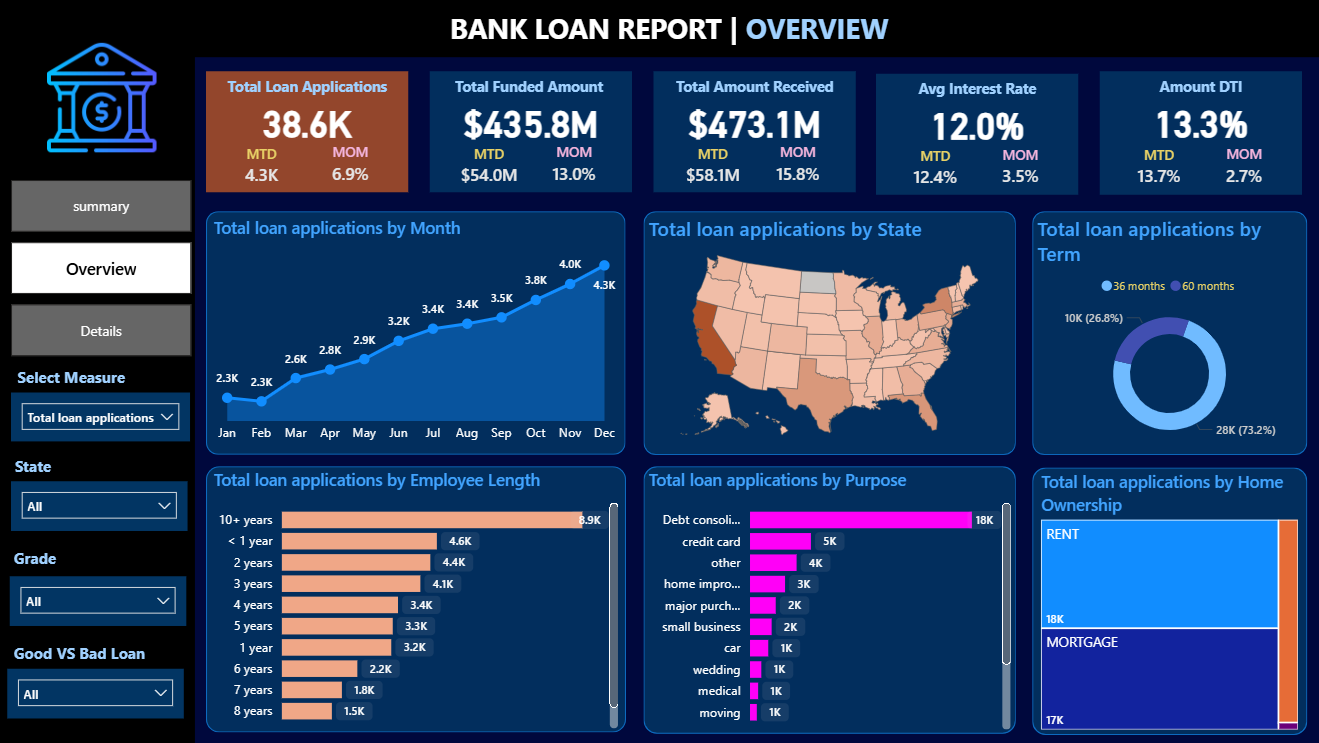

The page's visual inventory and layout, read from the dashboard file:
{"tool":"powerbi","page":{"name":"Overview","canvas":[1280,720],"ordinal":1},"visuals":[{"type":"textbox","box":[0,54.9,192,665],"z":0},{"type":"textbox","box":[0,0,1280,55.5],"z":1000},{"type":"textbox","box":[433.1,3.6,441.6,47.1],"z":2000},{"type":"group","id":"g1","title":"Group 1","box":[202.7,68.8,195.4,117],"z":3000},{"type":"textbox","box":[202.7,68.8,195.4,117],"z":3000,"group":"g1"},{"type":"textbox","box":[418.3,68.8,195.4,117],"z":3000,"group":"g2"},{"type":"textbox","box":[634,68.8,195.4,117],"z":3000,"group":"g4"},{"type":"textbox","box":[1065.3,68.8,195.4,119.4],"z":3000,"group":"g5"},{"type":"textbox","box":[849.6,71.2,195.4,117],"z":3000,"group":"g3"},{"type":"group","id":"g2","title":"Group 1","box":[418.3,68.8,195.4,117],"z":4000},{"type":"card","fields":{"Values":["bank_loan_data.Total loan applications"]},"box":[202.7,94.1,195.4,45.8],"z":4000,"group":"g1"},{"type":"card","fields":{"Values":["bank_loan_data.Total Funded Amount"]},"box":[418.3,94.1,195.4,45.8],"z":4000,"group":"g2"},{"type":"card","fields":{"Values":["bank_loan_data.Total Amount Received"]},"box":[634,94.1,195.4,45.8],"z":4000,"group":"g4"},{"type":"card","fields":{"Values":["bank_loan_data.Avg DTI"]},"box":[1065.3,94.7,195.4,46.8],"z":4000,"group":"g5"},{"type":"card","fields":{"Values":["bank_loan_data.Avg Interest Rate"]},"box":[849.6,96.5,195.4,45.8],"z":4000,"group":"g3"},{"type":"textbox","box":[202.7,68.8,195.4,30.2],"z":5000,"group":"g1"},{"type":"textbox","box":[418.3,68.8,195.4,30.2],"z":5000,"group":"g2"},{"type":"textbox","box":[634,68.8,195.4,30.2],"z":5000,"group":"g4"},{"type":"textbox","box":[1065.3,68.8,195.4,30.8],"z":5000,"group":"g5"},{"type":"textbox","box":[849.6,71.2,195.4,30.2],"z":5000,"group":"g3"},{"type":"shape","box":[202.7,203.9,405,235],"z":5000},{"type":"card","title":"MTD","fields":{"Values":["bank_loan_data.MTD Loan Applications"]},"box":[224.4,138.8,63.9,45.8],"z":6000,"group":"g1"},{"type":"card","title":"MTD","fields":{"Values":["bank_loan_data.MTD Funded Amount"]},"box":[439.9,139.1,71.2,45.8],"z":6000,"group":"g2"},{"type":"card","title":"MTD","fields":{"Values":["bank_loan_data.MTD Total Amount Recieved"]},"box":[655.6,139.1,71.2,45.8],"z":6000,"group":"g4"},{"type":"card","title":"MTD","fields":{"Values":["bank_loan_data.MTD AVG DTI"]},"box":[1086.9,140.5,71.2,46.8],"z":6000,"group":"g5"},{"type":"card","title":"MTD","fields":{"Values":["bank_loan_data.MTD Avg Interest Rate"]},"box":[871.2,141.5,71.2,45.8],"z":6000,"group":"g3"},{"type":"textbox","box":[12.1,523.6,167.7,32.6],"z":6000},{"type":"card","title":"MOM","fields":{"Values":["bank_loan_data.MOM Loan Application"]},"box":[313.7,137.6,56.7,47.1],"z":7000,"group":"g1"},{"type":"card","title":"MOM","fields":{"Values":["bank_loan_data.MOM Total Funded Amount"]},"box":[529.3,137.6,56.7,47.1],"z":7000,"group":"g2"},{"type":"card","title":"MOM","fields":{"Values":["bank_loan_data.MOM Total Amount Recieved"]},"box":[745,137.6,56.7,47.1],"z":7000,"group":"g4"},{"type":"card","title":"MOM","fields":{"Values":["bank_loan_data.MOM AVG DTI"]},"box":[1176.3,139,56.7,48],"z":7000,"group":"g5"},{"type":"card","title":"MOM","fields":{"Values":["bank_loan_data.MOM Avg Interest Rate"]},"box":[960.6,140,56.7,47.1],"z":7000,"group":"g3"},{"type":"textbox","box":[13.3,434.3,168.9,30.2],"z":7000},{"type":"group","id":"g3","title":"Group 1","box":[849.6,71.2,195.4,117],"z":8000},{"type":"group","id":"g4","title":"Group 1","box":[634,68.8,195.4,117],"z":9000},{"type":"group","id":"g5","title":"Group 1","box":[1065.3,68.8,195.4,119.4],"z":10000},{"type":"shape","box":[624.9,203.9,359.5,235.3],"z":11000},{"type":"slicer","fields":{"Values":["bank_loan_data.address_state"]},"box":[14.5,464.5,170.1,48.3],"z":12000},{"type":"slicer","fields":{"Values":["bank_loan_data.grade"]},"box":[13.3,556.2,170.1,48.3],"z":13000},{"type":"textbox","box":[12.1,615.3,167.7,30.2],"z":14000},{"type":"slicer","fields":{"Values":["bank_loan_data.Good VS Bad Loan"]},"box":[10.9,645.4,170.1,48.3],"z":15000},{"type":"image","box":[17,33.8,170.1,120.6],"z":16000},{"type":"pageNavigator","box":[14.6,173.7,174.9,171.3],"z":17000},{"type":"areaChart","fields":{"Y":["bank_loan_data.Total loan applications"],"Category":["Date Table.MONTH"]},"box":[205.1,208.7,400.5,226.8],"z":18000},{"type":"slicer","fields":{"Values":["Select measure.Select measure"]},"box":[14.5,378.8,172.5,47.1],"z":19000},{"type":"textbox","box":[15.7,348.7,168.9,30.2],"z":20000},{"type":"shapeMap","fields":{"Value":["bank_loan_data.Total loan applications"],"Category":["bank_loan_data.address_state"]},"box":[624.9,207.5,359.5,226.8],"z":21000},{"type":"shape","box":[1000.1,203.9,265.4,235.3],"z":22000},{"type":"donutChart","fields":{"Y":["bank_loan_data.Total loan applications"],"Category":["bank_loan_data.term"]},"box":[1000.1,207.5,265.4,229.2],"z":23000},{"type":"shape","box":[202.7,450,405.4,257],"z":24000},{"type":"barChart","fields":{"Y":["bank_loan_data.Total loan applications"],"Category":["bank_loan_data.emp_length"]},"box":[205.1,451.2,400.5,257],"z":25000},{"type":"shape","box":[624.9,450,359.5,258.2],"z":26000},{"type":"shape","box":[1000.1,451.2,265.4,258.2],"z":27000},{"type":"barChart","fields":{"Y":["bank_loan_data.Total loan applications"],"Category":["bank_loan_data.purpose"]},"box":[624.9,451.2,359.5,258.2],"z":28000},{"type":"treemap","fields":{"Values":["bank_loan_data.Total loan applications"],"Group":["bank_loan_data.home_ownership"]},"box":[1003.8,453.6,258.2,255.8],"z":29000}]}

Visuals, with their boxes in screenshot pixels (x1, y1, x2, y2), scaled from the page's 1280x720 canvas onto the 1319x743 screenshot:
textbox: [x1=0, y1=57, x2=198, y2=742]
textbox: [x1=0, y1=0, x2=1318, y2=57]
textbox: [x1=446, y1=4, x2=901, y2=52]
"Group 1" group: [x1=209, y1=71, x2=410, y2=192]
textbox: [x1=209, y1=71, x2=410, y2=192]
textbox: [x1=431, y1=71, x2=632, y2=192]
textbox: [x1=653, y1=71, x2=855, y2=192]
textbox: [x1=1098, y1=71, x2=1299, y2=194]
textbox: [x1=875, y1=73, x2=1077, y2=194]
"Group 1" group: [x1=431, y1=71, x2=632, y2=192]
card - bank_loan_data.Total loan applications: [x1=209, y1=97, x2=410, y2=144]
card - bank_loan_data.Total Funded Amount: [x1=431, y1=97, x2=632, y2=144]
card - bank_loan_data.Total Amount Received: [x1=653, y1=97, x2=855, y2=144]
card - bank_loan_data.Avg DTI: [x1=1098, y1=98, x2=1299, y2=146]
card - bank_loan_data.Avg Interest Rate: [x1=875, y1=100, x2=1077, y2=147]
textbox: [x1=209, y1=71, x2=410, y2=102]
textbox: [x1=431, y1=71, x2=632, y2=102]
textbox: [x1=653, y1=71, x2=855, y2=102]
textbox: [x1=1098, y1=71, x2=1299, y2=103]
textbox: [x1=875, y1=73, x2=1077, y2=105]
shape: [x1=209, y1=210, x2=626, y2=453]
"MTD" card: [x1=231, y1=143, x2=297, y2=190]
"MTD" card: [x1=453, y1=144, x2=527, y2=191]
"MTD" card: [x1=676, y1=144, x2=749, y2=191]
"MTD" card: [x1=1120, y1=145, x2=1193, y2=193]
"MTD" card: [x1=898, y1=146, x2=971, y2=193]
textbox: [x1=12, y1=540, x2=185, y2=574]
"MOM" card: [x1=323, y1=142, x2=382, y2=191]
"MOM" card: [x1=545, y1=142, x2=604, y2=191]
"MOM" card: [x1=768, y1=142, x2=826, y2=191]
"MOM" card: [x1=1212, y1=143, x2=1271, y2=193]
"MOM" card: [x1=990, y1=144, x2=1048, y2=193]
textbox: [x1=14, y1=448, x2=188, y2=479]
"Group 1" group: [x1=875, y1=73, x2=1077, y2=194]
"Group 1" group: [x1=653, y1=71, x2=855, y2=192]
"Group 1" group: [x1=1098, y1=71, x2=1299, y2=194]
shape: [x1=644, y1=210, x2=1014, y2=453]
slicer - bank_loan_data.address_state: [x1=15, y1=479, x2=190, y2=529]
slicer - bank_loan_data.grade: [x1=14, y1=574, x2=189, y2=624]
textbox: [x1=12, y1=635, x2=185, y2=666]
slicer - bank_loan_data.Good VS Bad Loan: [x1=11, y1=666, x2=187, y2=716]
image: [x1=18, y1=35, x2=193, y2=159]
pageNavigator: [x1=15, y1=179, x2=195, y2=356]
areaChart - bank_loan_data.Total loan applications x Date Table.MONTH: [x1=211, y1=215, x2=624, y2=449]
slicer - Select measure.Select measure: [x1=15, y1=391, x2=193, y2=440]
textbox: [x1=16, y1=360, x2=190, y2=391]
shapeMap - bank_loan_data.Total loan applications x bank_loan_data.address_state: [x1=644, y1=214, x2=1014, y2=448]
shape: [x1=1031, y1=210, x2=1304, y2=453]
donutChart - bank_loan_data.Total loan applications x bank_loan_data.term: [x1=1031, y1=214, x2=1304, y2=451]
shape: [x1=209, y1=464, x2=627, y2=730]
barChart - bank_loan_data.Total loan applications x bank_loan_data.emp_length: [x1=211, y1=466, x2=624, y2=731]
shape: [x1=644, y1=464, x2=1014, y2=731]
shape: [x1=1031, y1=466, x2=1304, y2=732]
barChart - bank_loan_data.Total loan applications x bank_loan_data.purpose: [x1=644, y1=466, x2=1014, y2=732]
treemap - bank_loan_data.Total loan applications x bank_loan_data.home_ownership: [x1=1034, y1=468, x2=1300, y2=732]
